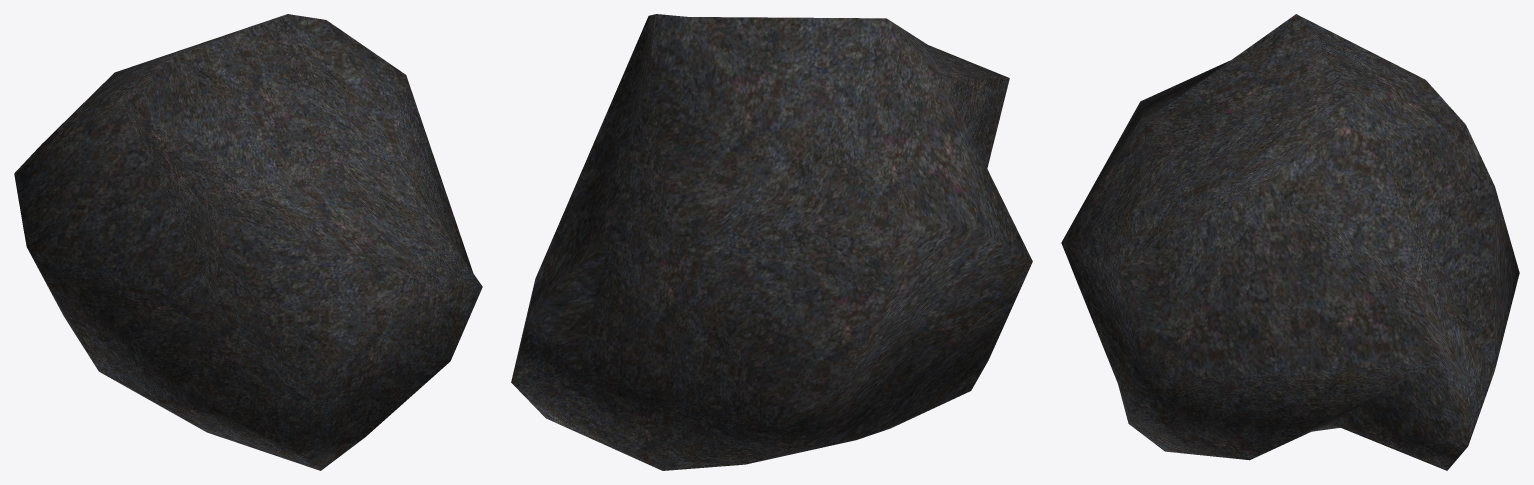
File: asteroid_metal_large_s02_l3.fbx
The picture shows the model from 3 angles, left to right: view 1: azimuth 30°, elevation 25°; view 2: azimuth 150°, elevation 25°; view 3: azimuth 270°, elevation 25°; orthographic projection. The views are drawn at different scales.
Parts seen in each view (by area): view 1: mesh_node; view 2: mesh_node; view 3: mesh_node.
Boxes of the visible parts, x1=… form: mesh_node: x1=14, y1=14, x2=482, y2=470; mesh_node: x1=511, y1=14, x2=1032, y2=470; mesh_node: x1=1061, y1=14, x2=1519, y2=470.
Size of the model in its own units: 110 by 107 by 112.
